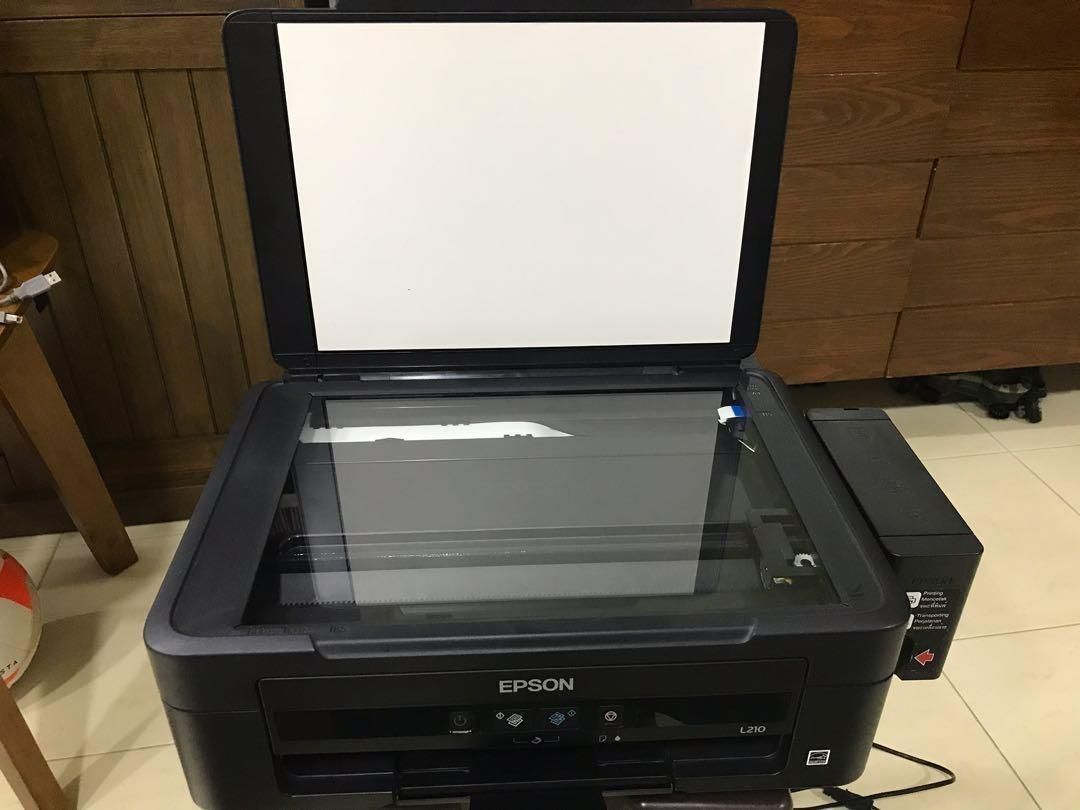Printer: (142, 0, 984, 808)
